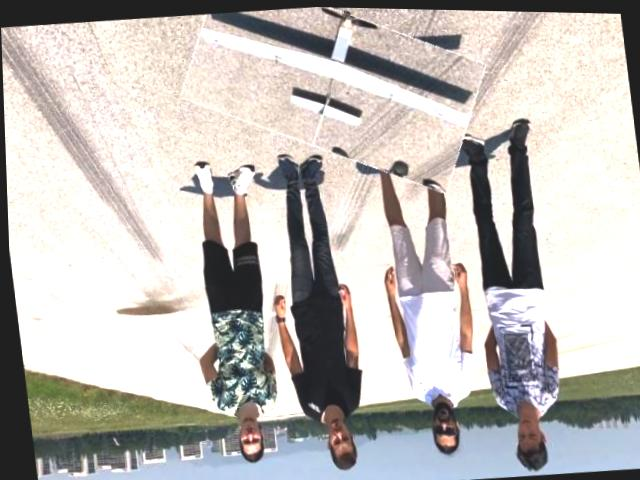insansiz-hava-araci: (176, 3, 489, 187)
